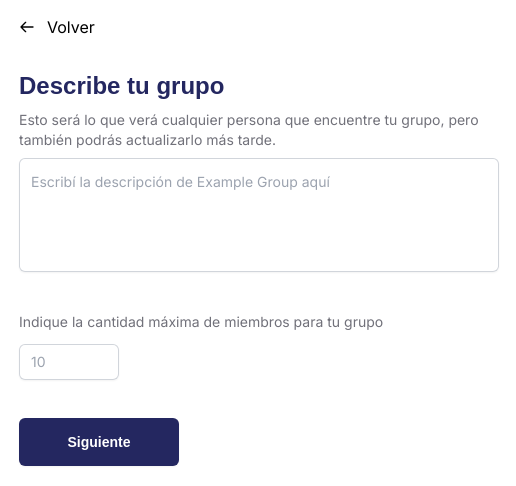
Test: Create Group FormStep3 › displays validation messages when no data is entered
Click the button "Siguiente": point(99, 442) [19, 418, 179, 466]
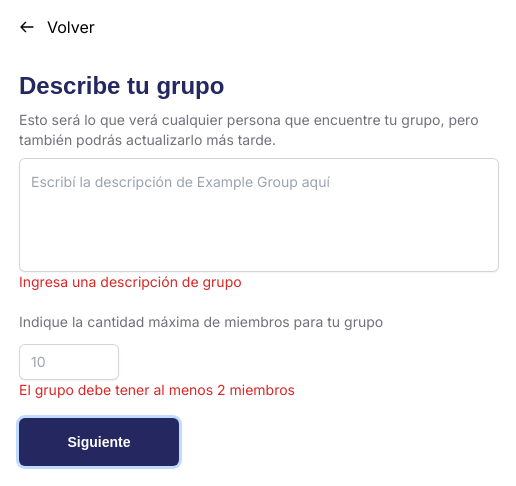
Check: the text "Ingresa una descripción de grupo" is shown, box [19, 273, 242, 290]
Check: the text "El grupo debe tener al menos 2 miembros" is shown, box [19, 381, 295, 398]
